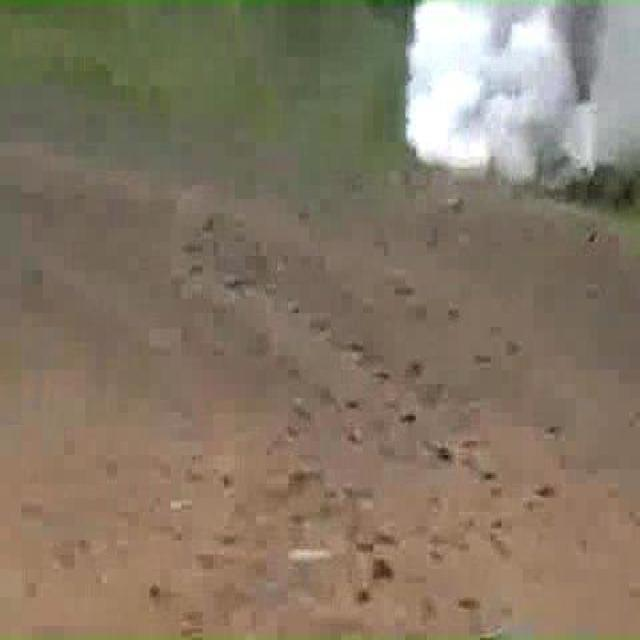Smoke: (404, 0, 640, 203)
